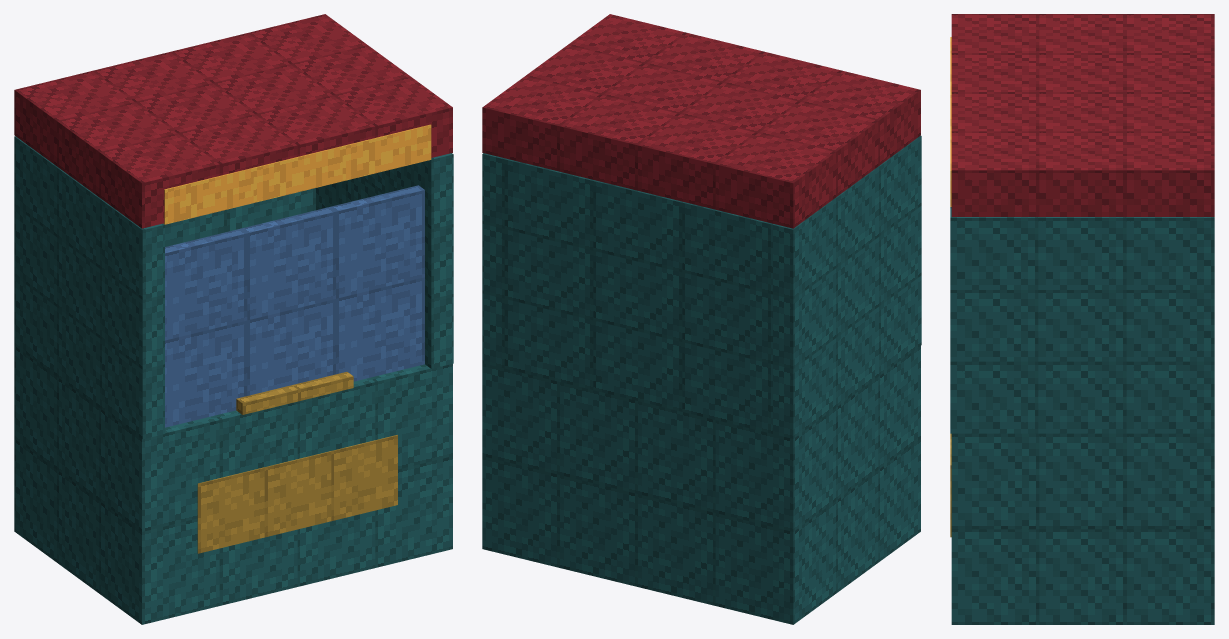
Rendered from ticketBooth_2.glb.
3 renders of one model, left to right at view 1: azimuth 30°, elevation 25°; view 2: azimuth 150°, elevation 25°; view 3: azimuth 270°, elevation 25°, orthographic. The views are drawn at different scales.
Parts seen in each view (by area): view 1: ticketBooth_2; view 2: ticketBooth_2; view 3: ticketBooth_2.
Part boxes in pixels (left/top/right/bottom): ticketBooth_2: left=14, top=14, right=453, bottom=624; ticketBooth_2: left=482, top=14, right=921, bottom=624; ticketBooth_2: left=950, top=14, right=1214, bottom=624.
Size of the model in its own units: 1.75 by 2.38 by 1.25.
1 material, 1 textured.
